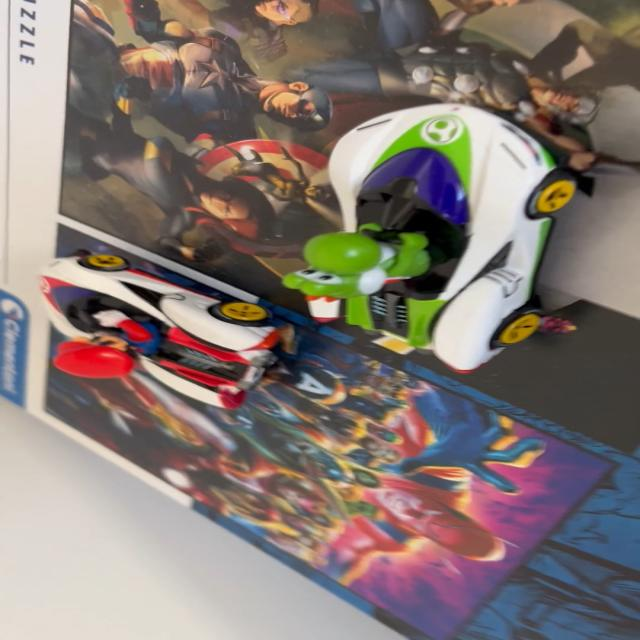mario: (17, 230, 297, 417)
yoshi: (263, 80, 620, 394)
